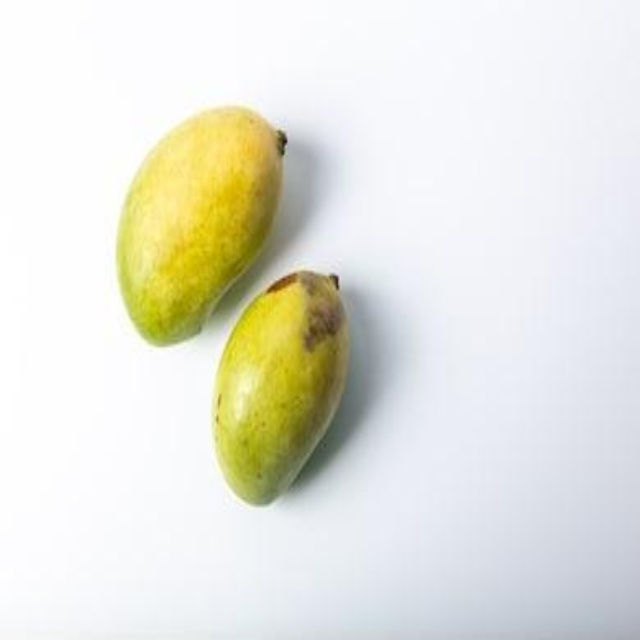mango: (114, 106, 280, 345), (209, 266, 356, 513)
